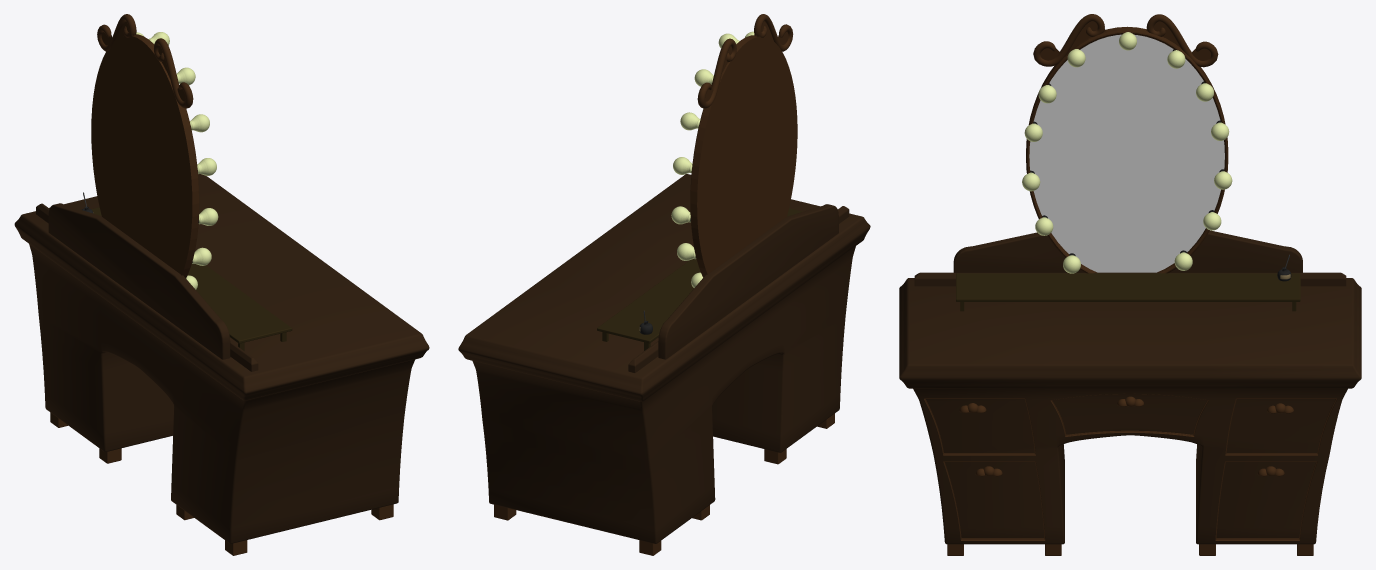
File: vanity mirror1.fbx
3 renders of one model, left to right at view 1: azimuth 30°, elevation 25°; view 2: azimuth 150°, elevation 25°; view 3: azimuth 270°, elevation 25°, orthographic.
Visible parts, largest first — view 1: MAIN TABLE BODY, Circle, Cube.001, Cube.002, SQUARE FEET, Cube; view 2: MAIN TABLE BODY, Circle, Cube.001, Cube.002, SQUARE FEET, Cube; view 3: MAIN TABLE BODY, Circle, Cube.002, Cube.001, Drawers, Cube, SQUARE FEET.
Boxes of the visible parts, x1,y1,x2,y2 form: MAIN TABLE BODY: (14, 174, 429, 543); Circle: (91, 14, 199, 278); Cube.001: (48, 203, 230, 359); Cube.002: (91, 207, 292, 350); SQUARE FEET: (50, 412, 393, 555); Cube: (36, 203, 258, 371); MAIN TABLE BODY: (458, 174, 870, 543); Circle: (690, 14, 797, 277); Cube.001: (658, 204, 838, 359); Cube.002: (597, 208, 802, 350); SQUARE FEET: (494, 413, 834, 555); Cube: (628, 206, 849, 372); MAIN TABLE BODY: (899, 278, 1361, 544); Circle: (1026, 14, 1228, 273); Cube.002: (956, 273, 1300, 311); Cube.001: (953, 230, 1302, 272); Drawers: (924, 393, 1337, 540); Cube: (914, 272, 1346, 286); SQUARE FEET: (947, 544, 1313, 555).
Size of the model in its own units: 211 by 503 by 454.
